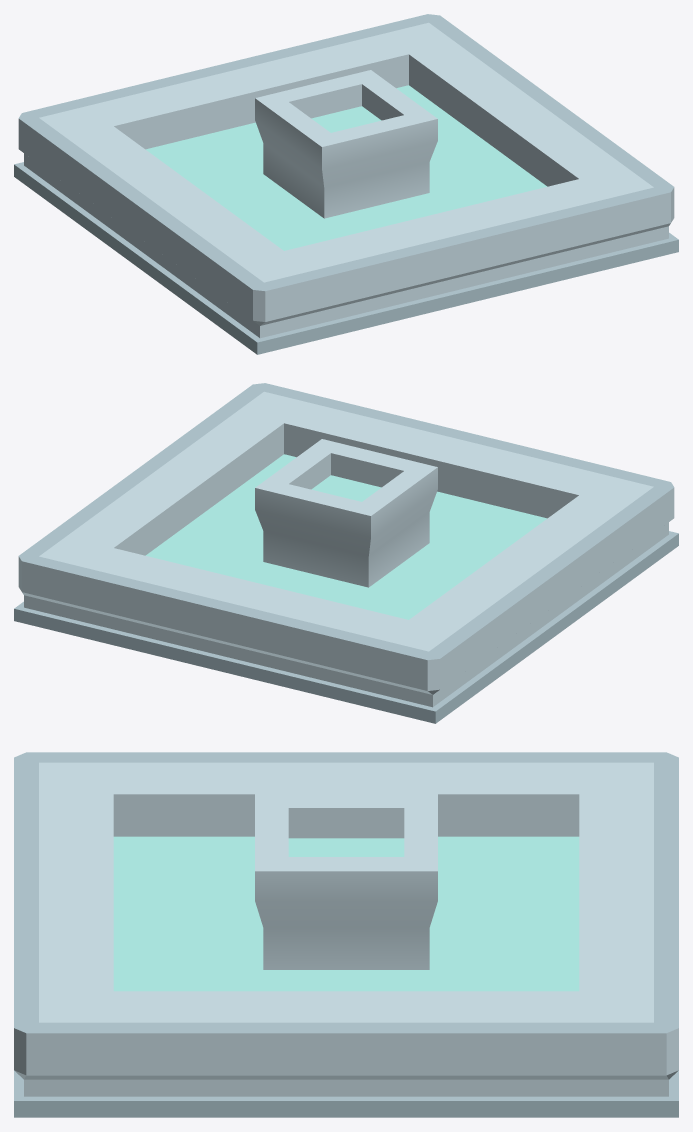
File: fountainSquareDetail.fbx
3 views of the same model, one above another, from view 1: azimuth 30°, elevation 25°; view 2: azimuth 150°, elevation 25°; view 3: azimuth 270°, elevation 25° (orthographic). The views are drawn at different scales.
Parts seen in each view (by area): view 1: fountainSquareDetail, fountainSquareDetail.001; view 2: fountainSquareDetail, fountainSquareDetail.001; view 3: fountainSquareDetail, fountainSquareDetail.001.
Boxes of the visible parts, x1,y1,x2,y2 form: fountainSquareDetail: [14, 14, 678, 354]; fountainSquareDetail.001: [145, 85, 547, 250]; fountainSquareDetail: [14, 383, 678, 723]; fountainSquareDetail.001: [145, 454, 547, 619]; fountainSquareDetail: [14, 752, 678, 1117]; fountainSquareDetail.001: [113, 836, 579, 991].
Bounding box in the file's own units: 200 × 48 × 200.
